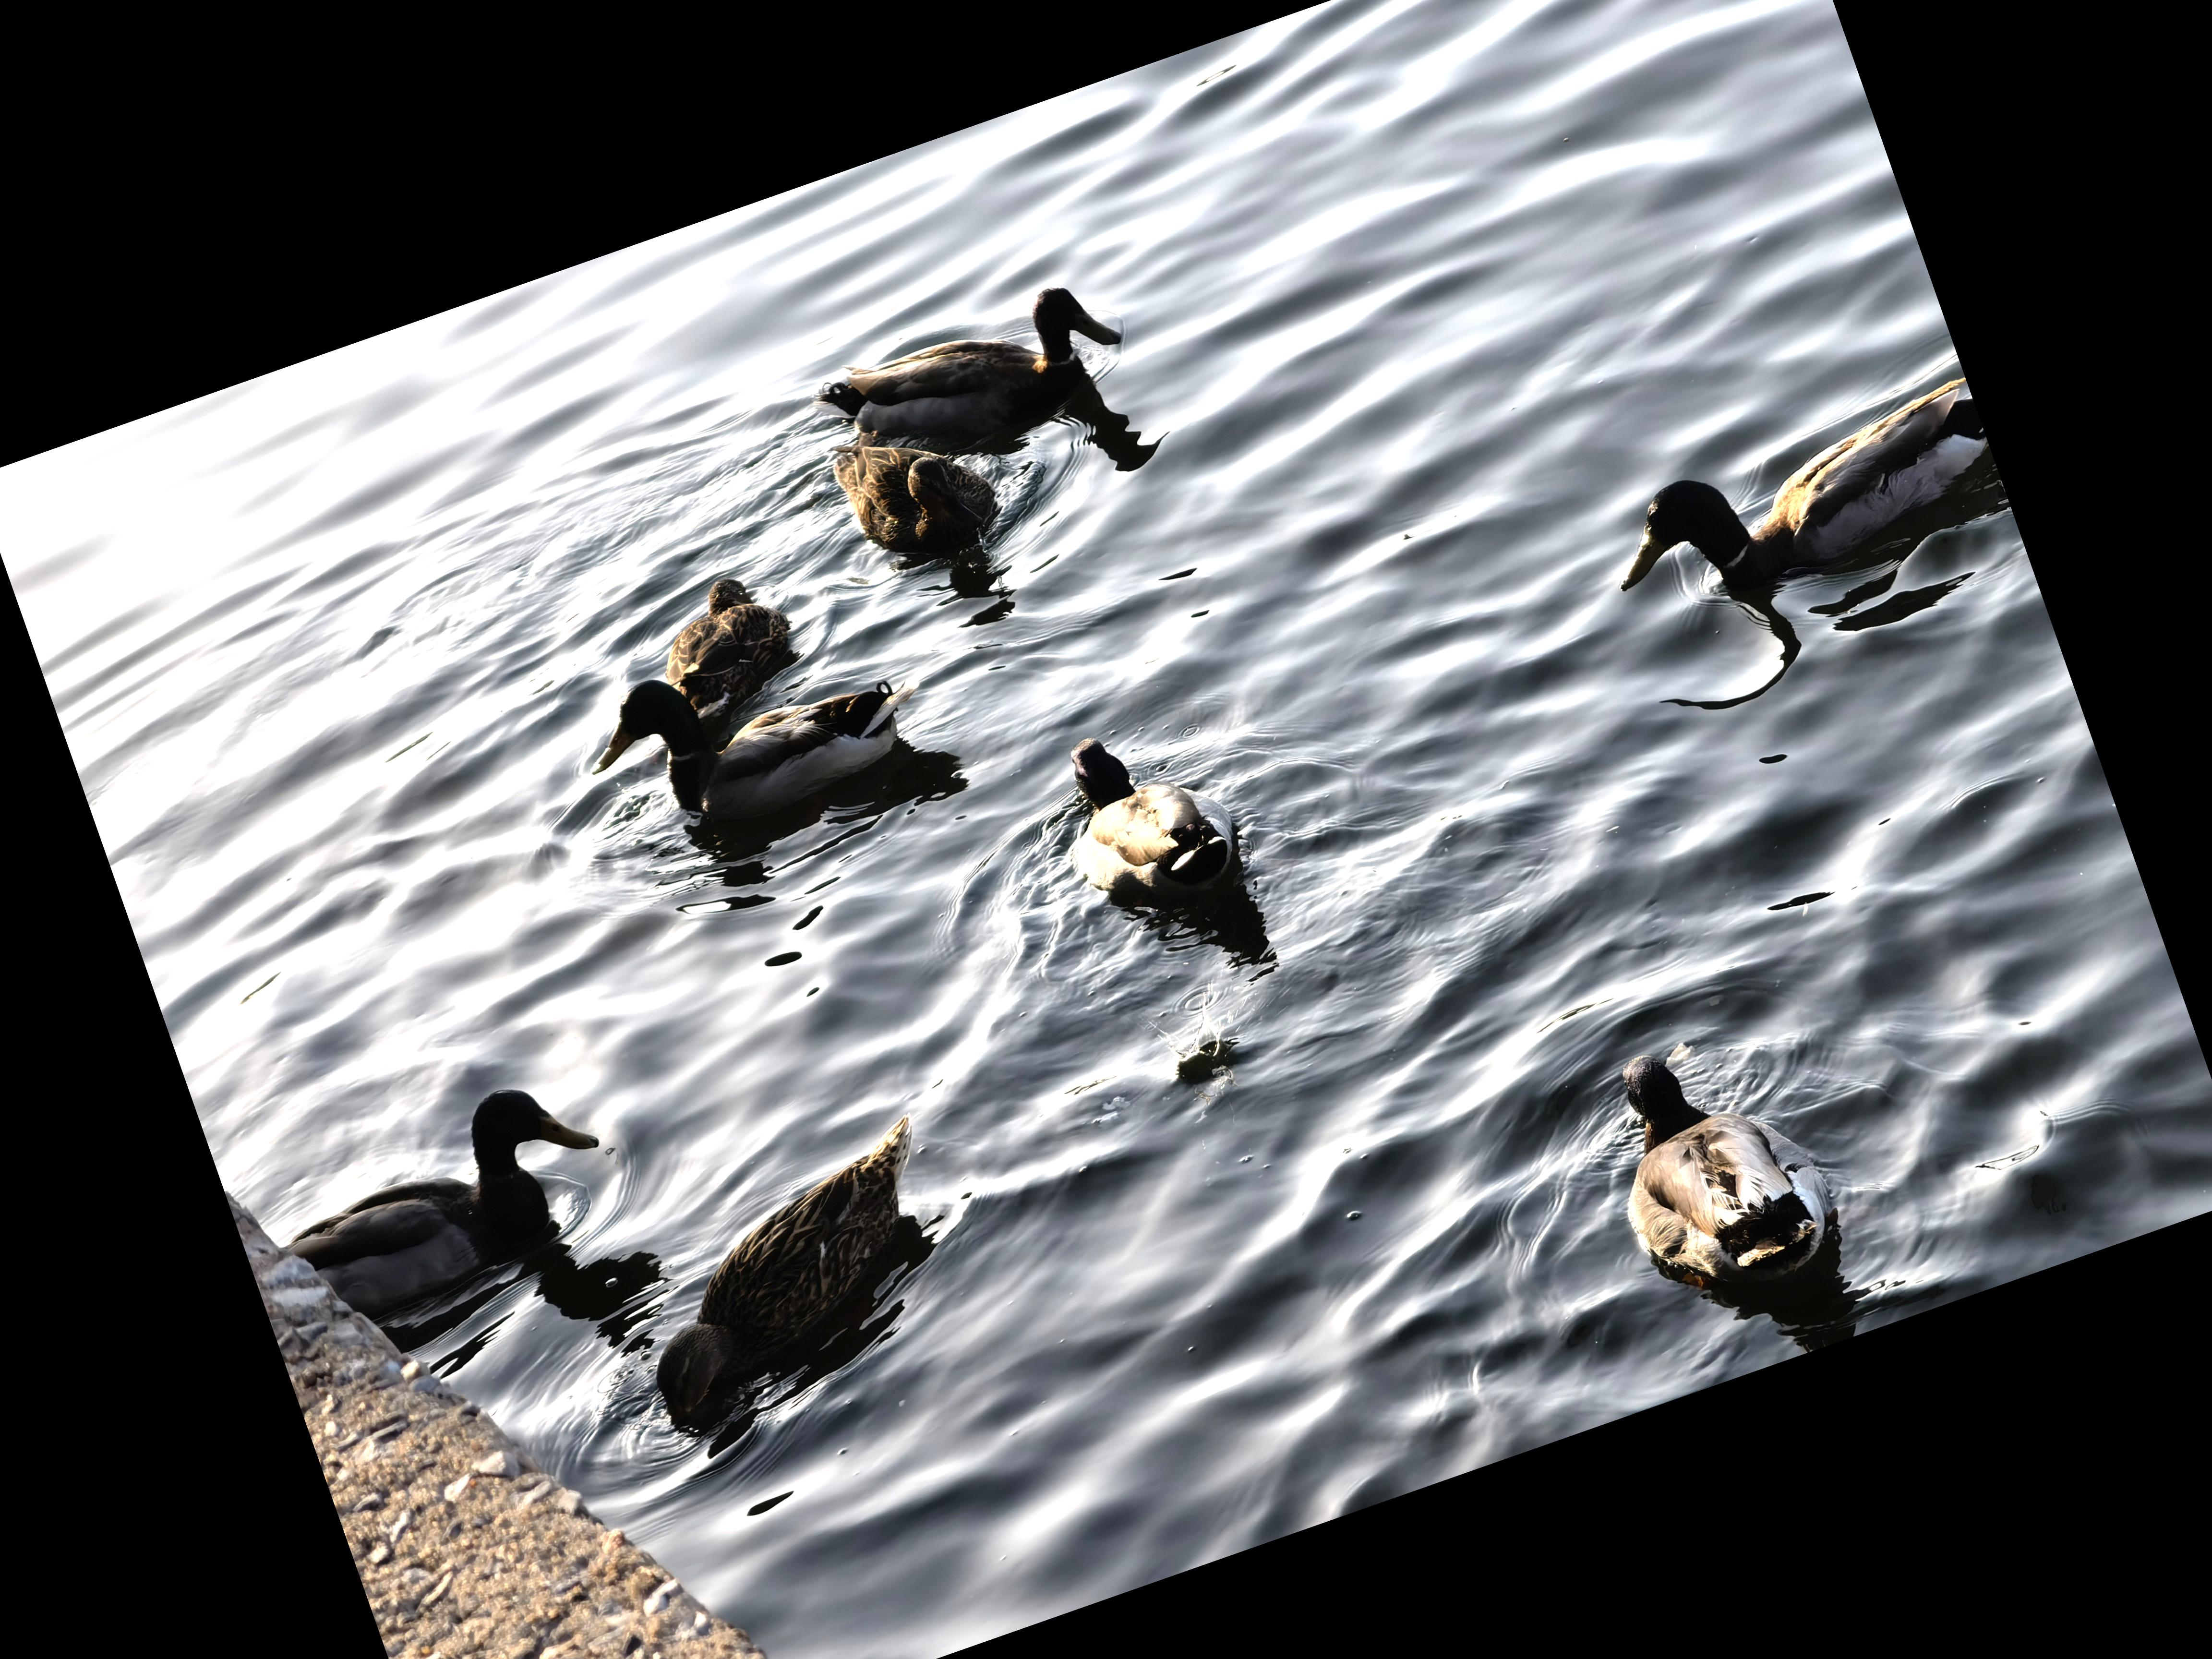duck: (577, 1100, 1007, 1455), (1571, 342, 2019, 667), (1554, 972, 1898, 1342), (573, 591, 977, 890), (247, 1060, 637, 1345), (787, 242, 1162, 521), (1038, 687, 1280, 964), (810, 392, 1033, 605), (636, 558, 831, 718)
